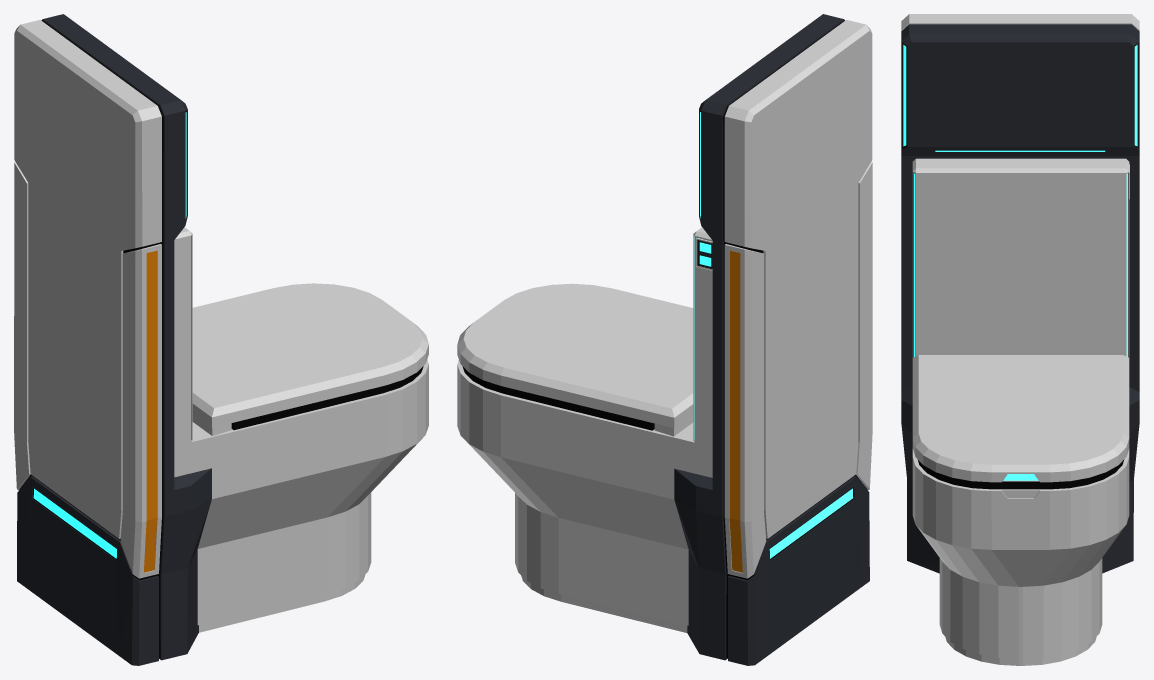
The model's file is SM_Toilet_Module.fbx.
The picture shows the model from 3 angles, left to right: view 1: azimuth 30°, elevation 25°; view 2: azimuth 150°, elevation 25°; view 3: azimuth 270°, elevation 25°; orthographic projection. The views are drawn at different scales.
Visible parts, largest first — view 1: SM_Toilet_Module; view 2: SM_Toilet_Module; view 3: SM_Toilet_Module.
Boxes of the visible parts, <box> form: SM_Toilet_Module: <box>14,14,428,665</box>; SM_Toilet_Module: <box>457,14,872,665</box>; SM_Toilet_Module: <box>901,14,1139,665</box>.
Size of the model in its own units: 66.24 by 107 by 44.
